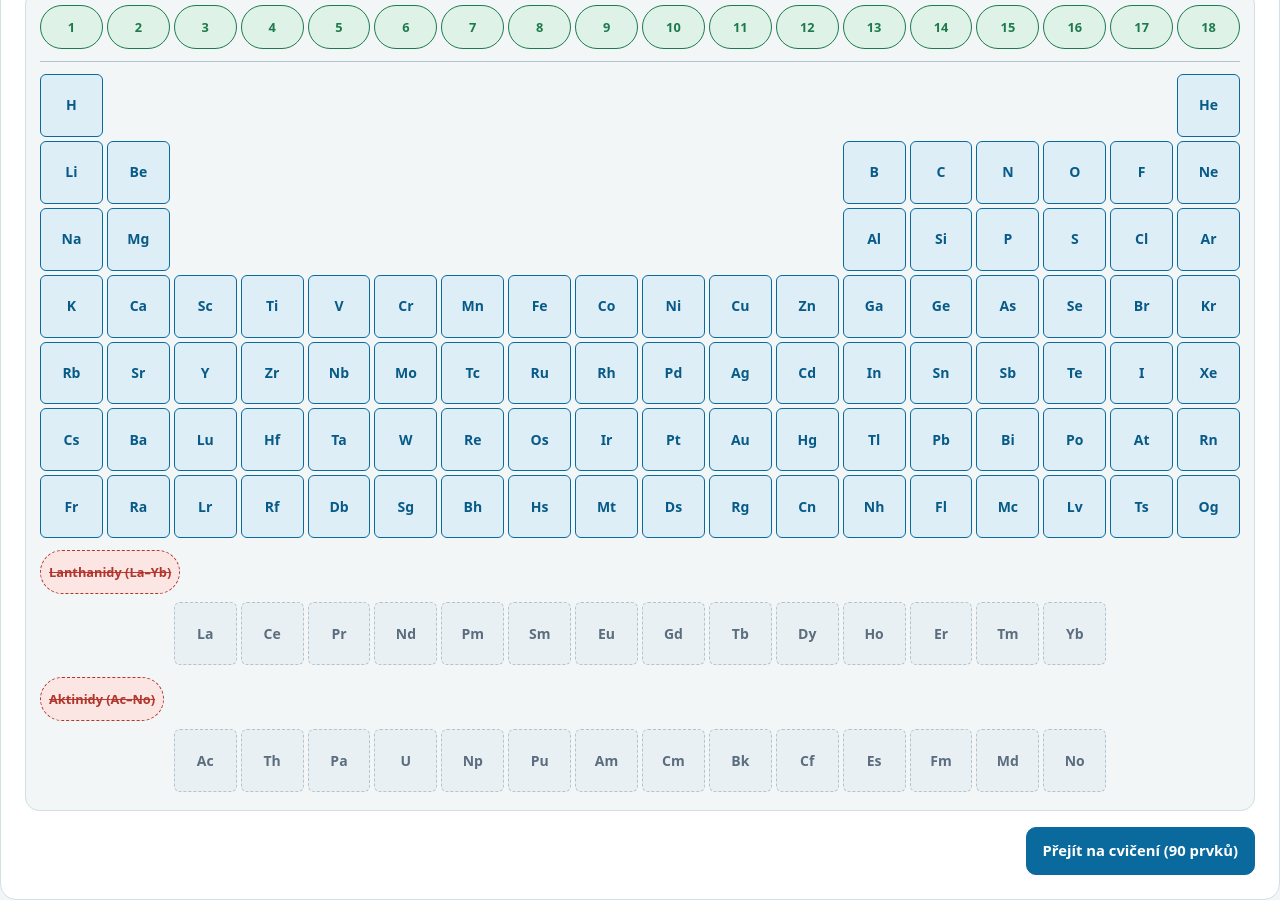
Test: PeriodicTablePractice › renders all reviewed elements as identical blind cells
(page scrolled)
Click the button "Přejít na cvičení (90 prvků)" at (1140, 851), box 1026,827 -> 1255,875
(page scrolled)
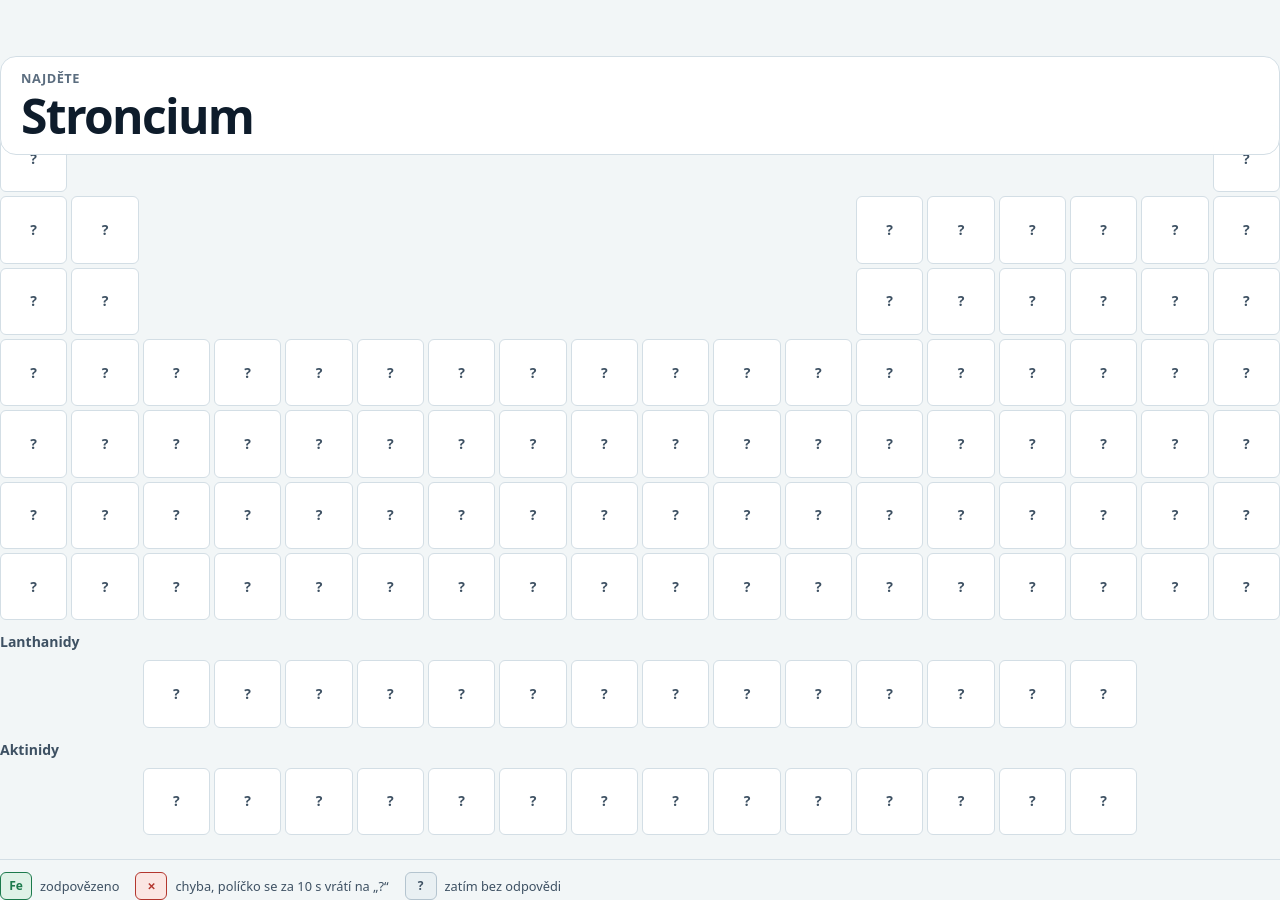
Now the 1st button "?" is shown, box 0,125 -> 67,192
